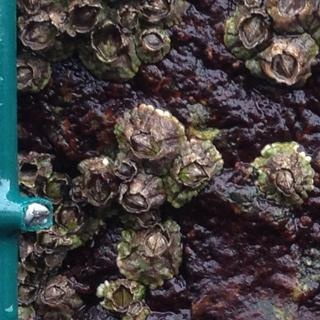Barnacle: (22, 17, 60, 46), (95, 23, 122, 58), (239, 14, 265, 45), (86, 170, 111, 202), (143, 225, 169, 255), (271, 51, 299, 78), (131, 130, 160, 155), (58, 204, 83, 231), (109, 284, 132, 309), (40, 284, 66, 306), (122, 191, 146, 214), (179, 161, 204, 183), (142, 0, 169, 20), (277, 0, 305, 19), (114, 156, 136, 180), (13, 63, 34, 86), (120, 7, 140, 31), (45, 178, 66, 200), (276, 167, 294, 191), (140, 31, 160, 51), (128, 300, 143, 316)
